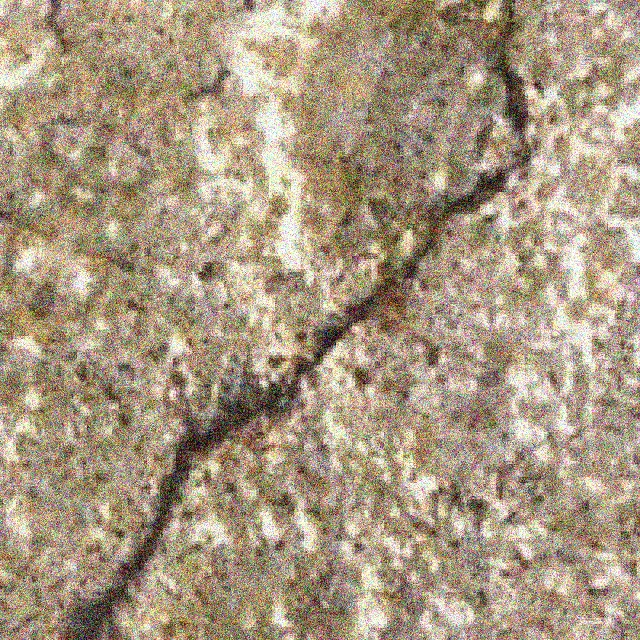SurfaceCrack: (36, 0, 536, 640)
